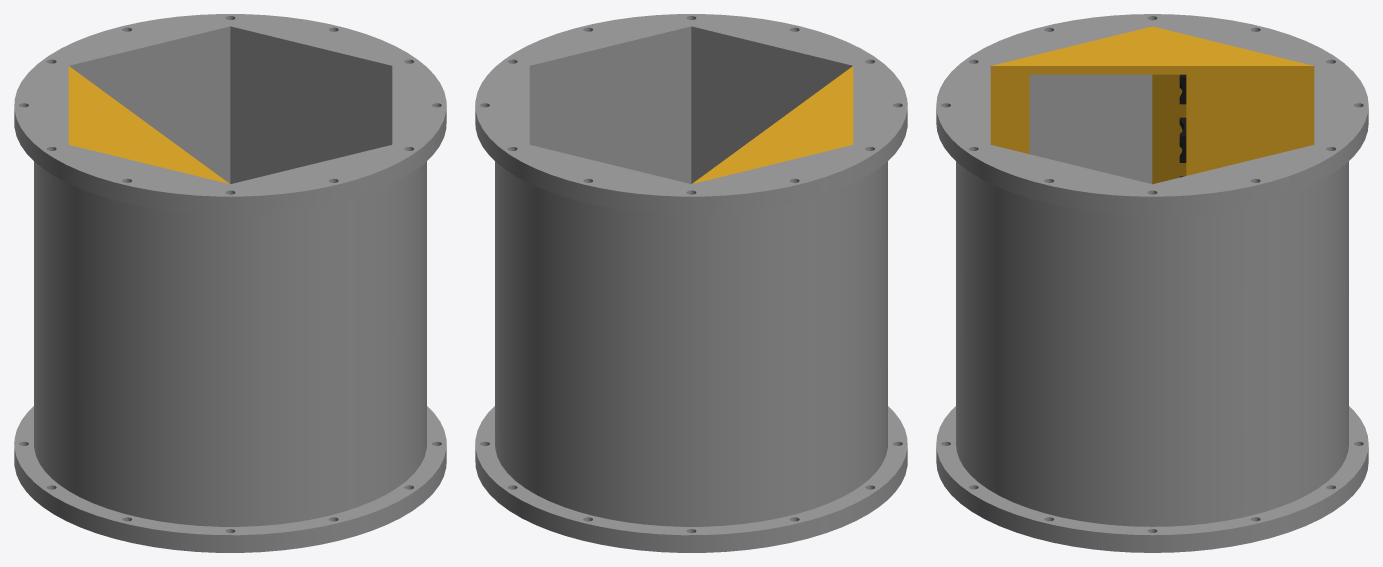
The model's file is Equipment_Charger+Fabricator v30.fbx.
3 views of the same model, side by side, from view 1: azimuth 30°, elevation 25°; view 2: azimuth 150°, elevation 25°; view 3: azimuth 270°, elevation 25° (orthographic).
Visible parts, largest first — view 1: Body1 (×2); view 2: Body1 (×2); view 3: Body1 (×2).
Part boxes in pixels (left/top/right/bottom): Body1 (×2): left=14, top=14, right=446, bottom=552; Body1 (×2): left=475, top=14, right=907, bottom=552; Body1 (×2): left=936, top=14, right=1368, bottom=552.
Size of the model in its own units: 4.4 by 4 by 4.4.
